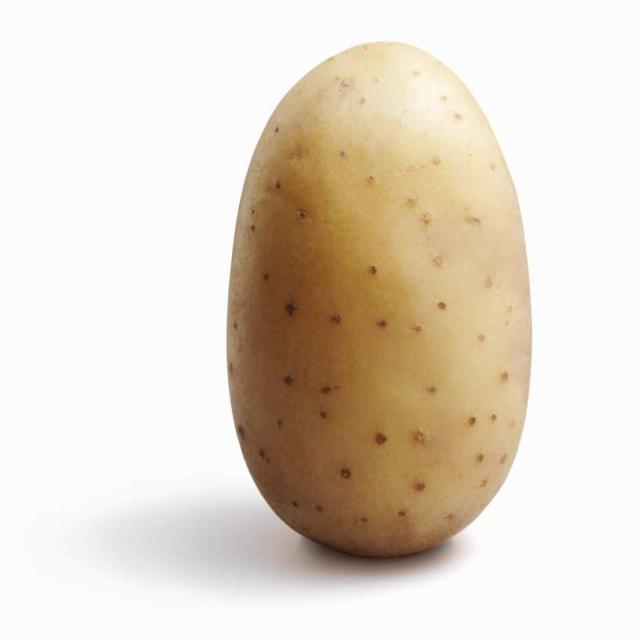Potato: (228, 43, 531, 556)
